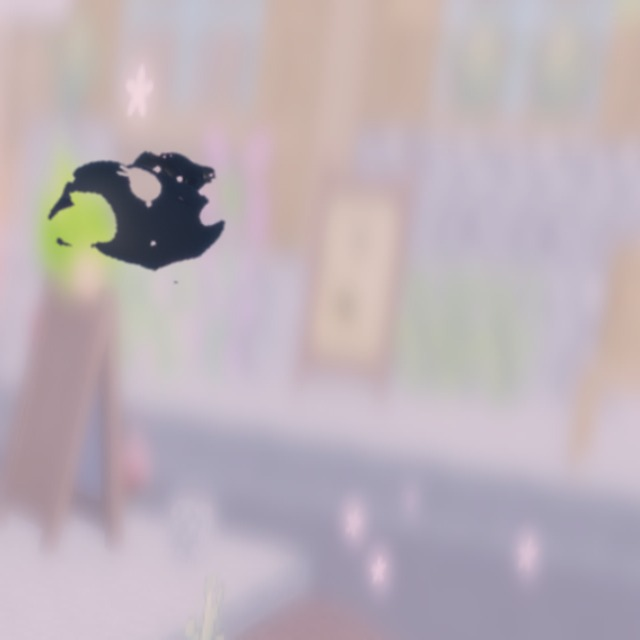urso_preto: (15, 113, 265, 308)
